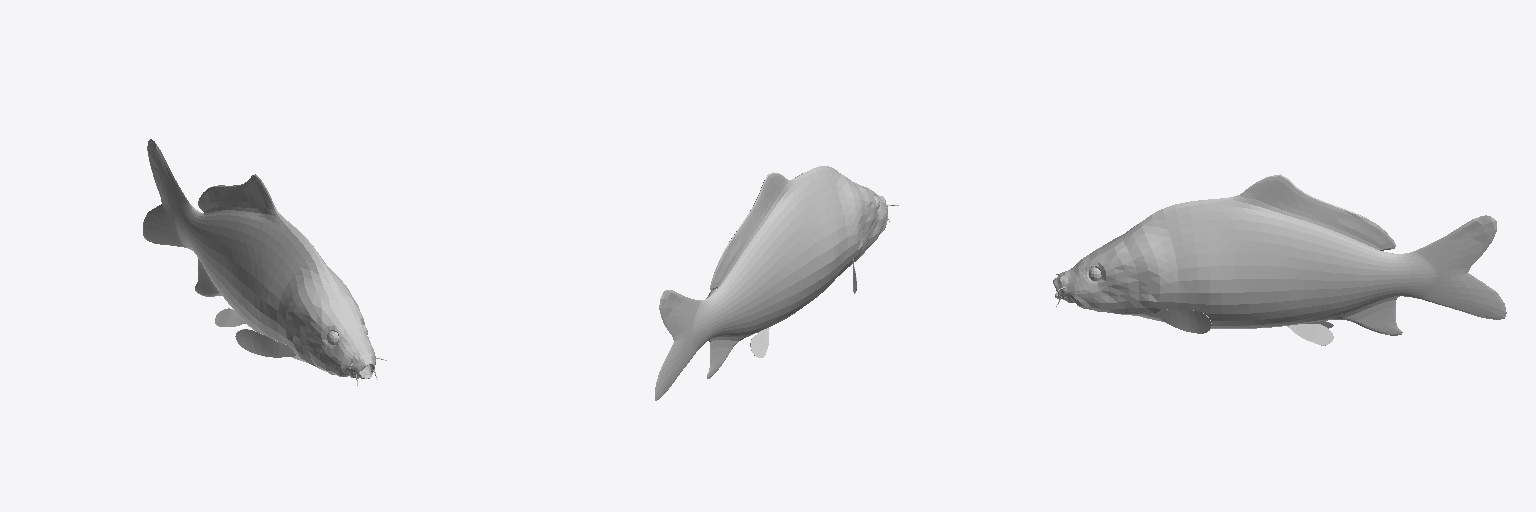
File: carp.obj
3 views of the same model, side by side, from view 1: azimuth 30°, elevation 25°; view 2: azimuth 150°, elevation 25°; view 3: azimuth 270°, elevation 25° (orthographic).
Visible parts, largest first — view 1: body_Cylinder; view 2: body_Cylinder; view 3: body_Cylinder.
Boxes of the visible parts, box(x1,y1,x2,y2) form: body_Cylinder: box(143, 139, 386, 385); body_Cylinder: box(655, 166, 898, 400); body_Cylinder: box(1053, 174, 1506, 345).
Size of the model in its own units: 0.0976 by 0.1387 by 0.3496.